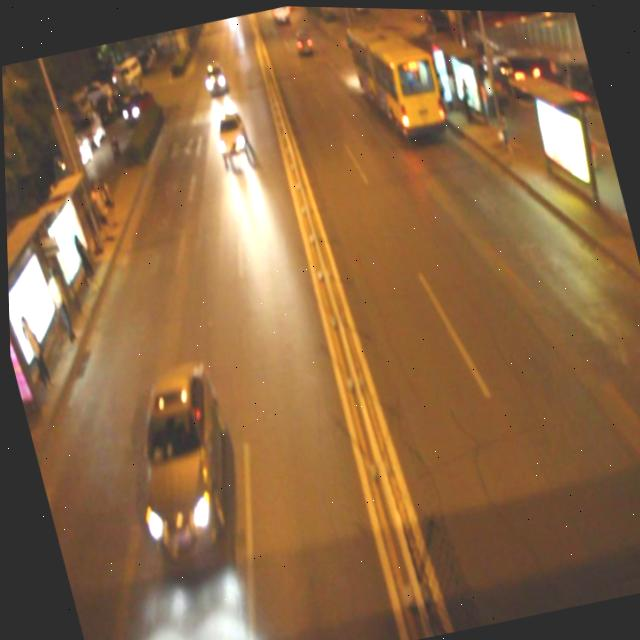car: (103, 355, 249, 567), (209, 106, 251, 163)
van: (342, 8, 446, 144)
